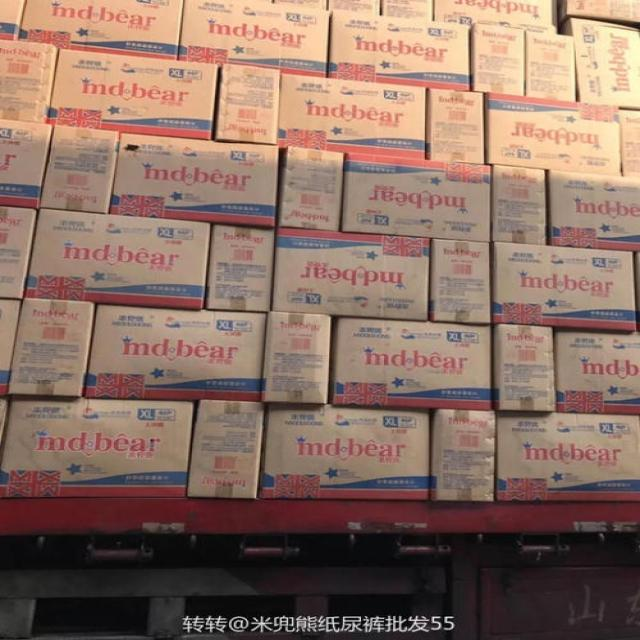box: (23, 210, 212, 310), (1, 398, 190, 495), (82, 307, 267, 403), (107, 133, 279, 230), (260, 406, 427, 501), (46, 48, 217, 137), (329, 317, 490, 410), (272, 229, 429, 319), (341, 154, 492, 243), (493, 410, 639, 502), (277, 72, 427, 160), (493, 243, 636, 333), (177, 1, 330, 77), (331, 10, 470, 91), (488, 93, 622, 173), (18, 1, 186, 60), (9, 299, 95, 398), (548, 171, 639, 250), (190, 400, 262, 499), (558, 18, 639, 106), (40, 125, 120, 214), (557, 329, 639, 415), (264, 313, 330, 405), (430, 408, 495, 501), (207, 225, 275, 311), (279, 147, 348, 231), (494, 325, 556, 411), (432, 239, 492, 325), (215, 65, 281, 143), (0, 38, 59, 123), (493, 165, 548, 247), (428, 88, 485, 163), (433, 1, 561, 34), (470, 24, 528, 95), (0, 208, 38, 301), (529, 31, 578, 103), (563, 2, 639, 29), (617, 108, 639, 176), (382, 0, 433, 21), (0, 1, 26, 39), (327, 0, 385, 14), (274, 1, 329, 11)
